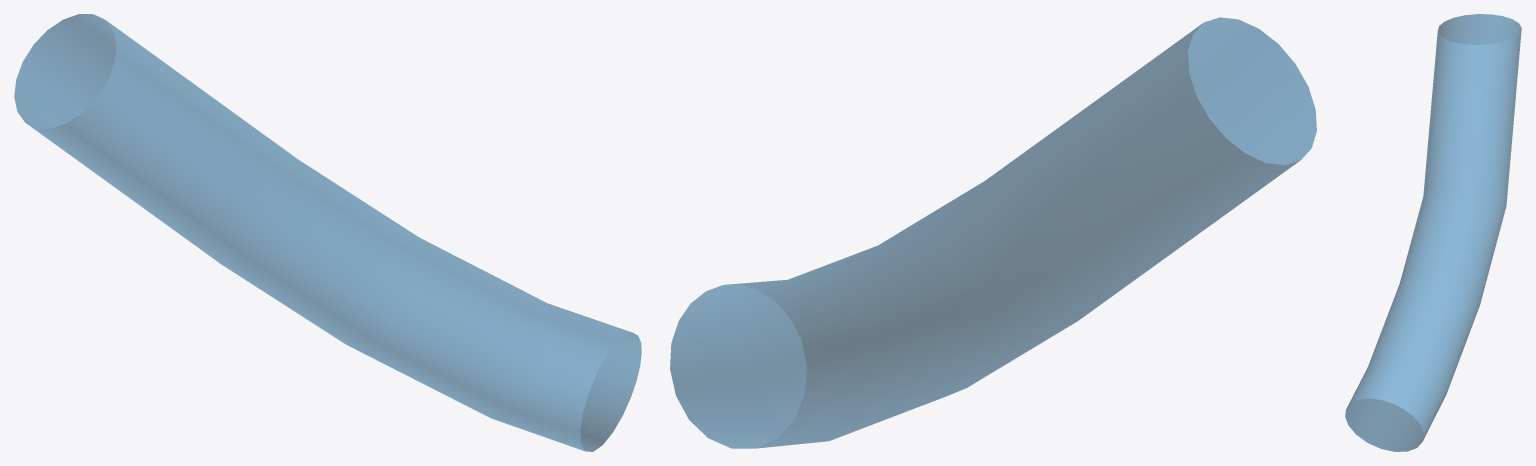
File: lacOperator_holder.glb
The picture shows the model from 3 angles, left to right: view 1: azimuth 30°, elevation 25°; view 2: azimuth 150°, elevation 25°; view 3: azimuth 270°, elevation 25°; orthographic projection. The views are drawn at different scales.
Visible parts, largest first — view 1: lacOperator; view 2: lacOperator; view 3: lacOperator.
Boxes of the visible parts, bbox=[...] form: lacOperator: bbox=[14, 14, 641, 451]; lacOperator: bbox=[670, 17, 1316, 448]; lacOperator: bbox=[1345, 14, 1521, 451].
Size of the model in its own units: 0.4559 by 0.3842 by 0.1994.
Materials: 1 (1 with a texture image).
